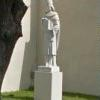Statue: (36, 2, 76, 90)
